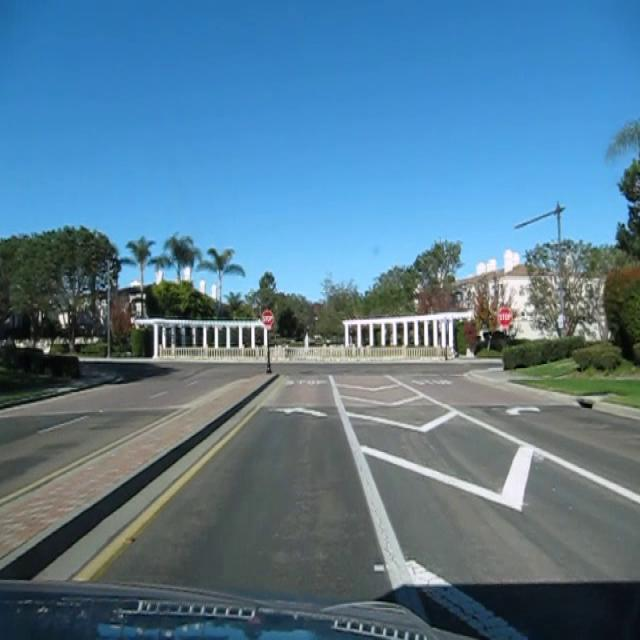stop_sign: (498, 305, 513, 327), (261, 308, 274, 327)
